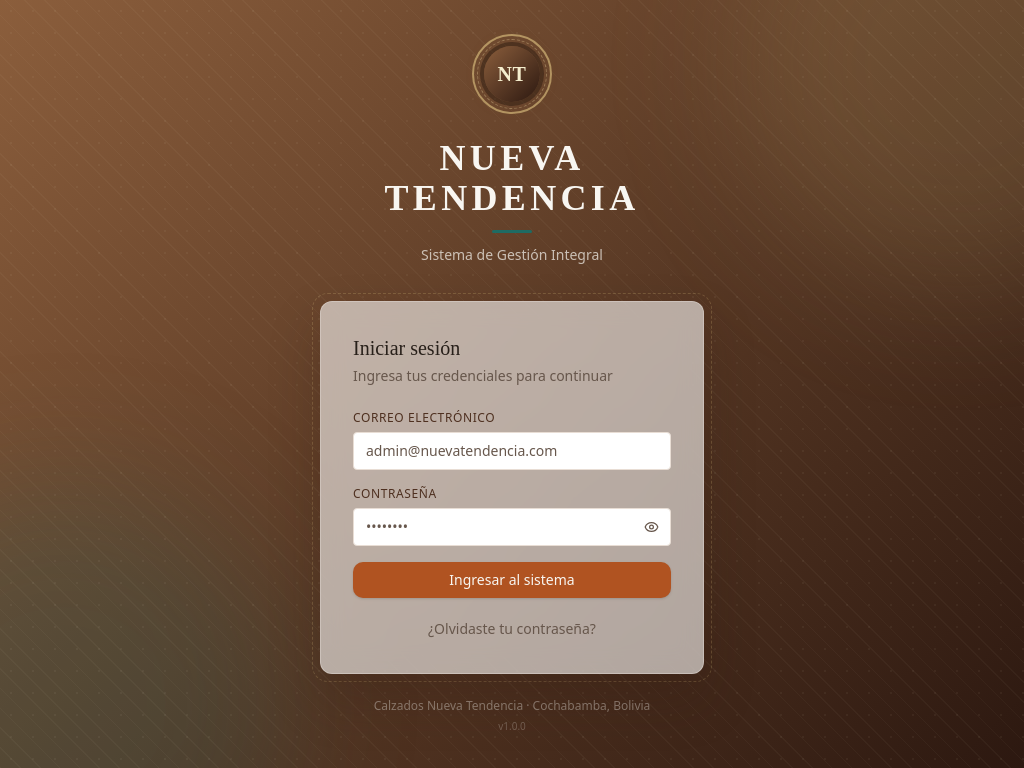
Test: Login → flujo de cambio de contraseña obligatorio › redirige a CambiarPasswordView cuando /auth/me trae requiereCambioPassword
Type "cliente@correo.com" into the field with placeholder "admin@nuevatendencia.com" at [512, 451], box [353,432,671,470]
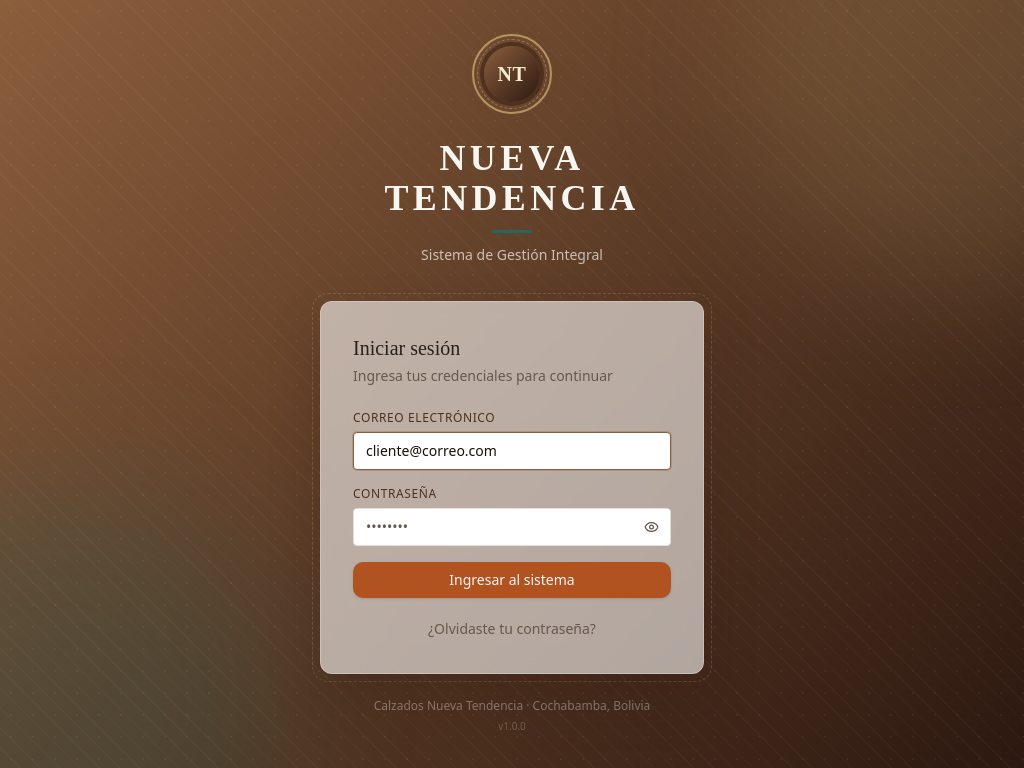
Type "temporal123" into the password field with placeholder "••••••••" at [512, 527], box [353,508,671,546]
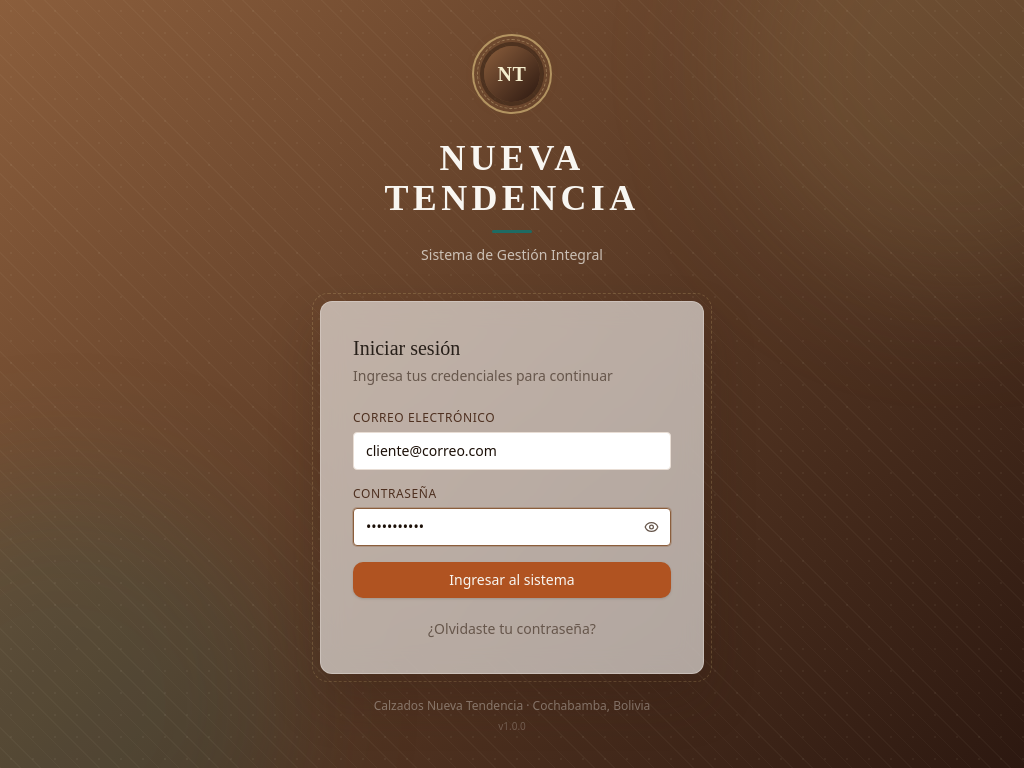
Click the button "Ingresar al sistema" at [512, 580], box [353,562,671,598]
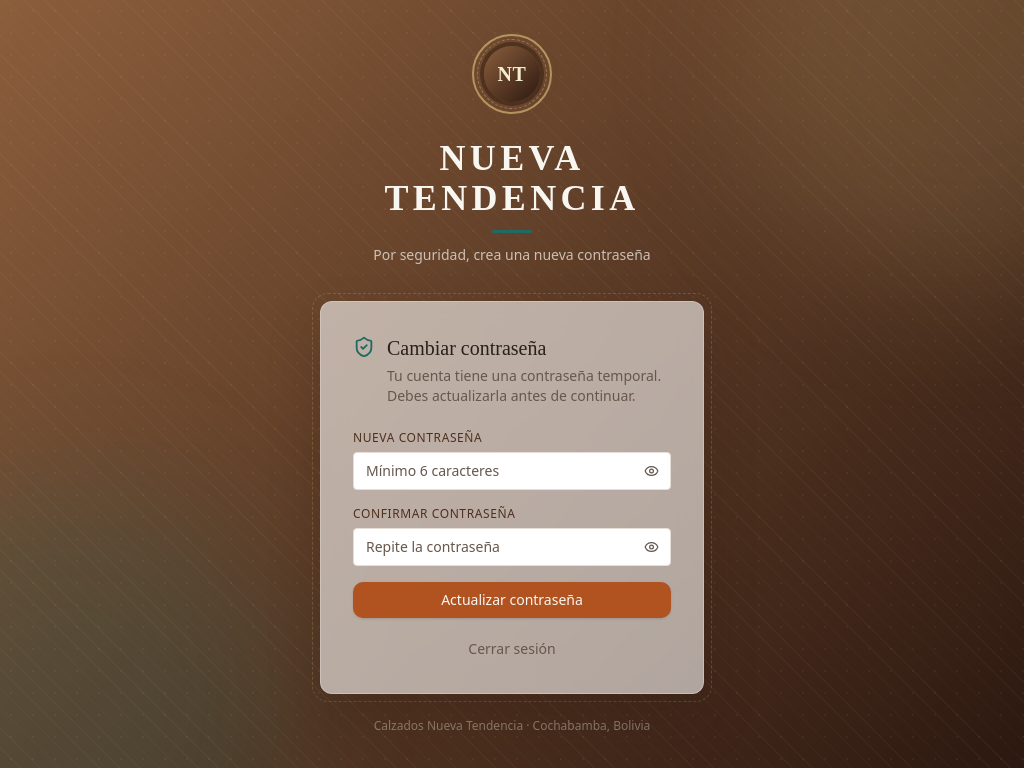
Expected: the heading "Cambiar contraseña" is shown, [387,337,546,359]
